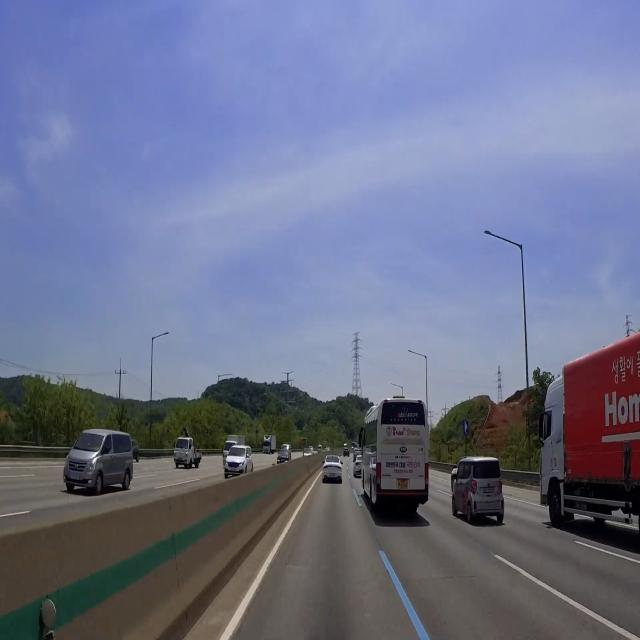car: (396, 476, 412, 494), (477, 484, 499, 497), (68, 472, 83, 484), (327, 470, 338, 481), (229, 464, 239, 476), (175, 456, 186, 465)
